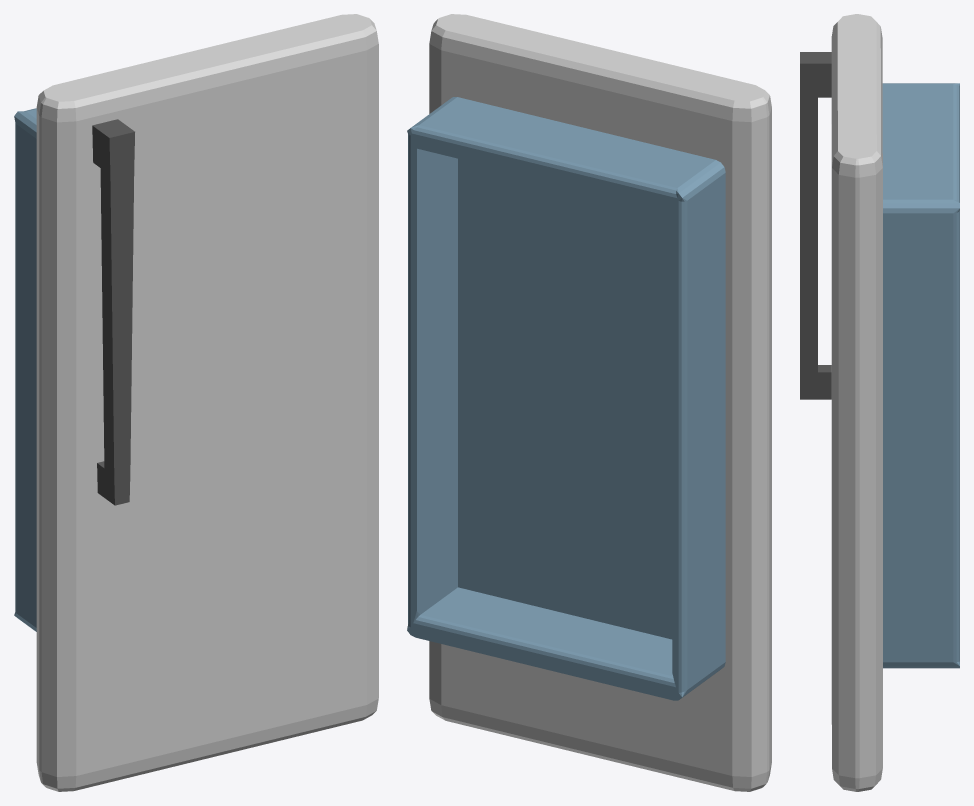
Rendered from bottomdoor.fbx.
3 views of the same model, side by side, from view 1: azimuth 30°, elevation 25°; view 2: azimuth 150°, elevation 25°; view 3: azimuth 270°, elevation 25° (orthographic). The views are drawn at different scales.
Visible parts, largest first — view 1: Cube.005; view 2: Cube.005; view 3: Cube.005.
Boxes of the visible parts, x1,y1,x2,y2 form: Cube.005: (14,14,378,791); Cube.005: (407,14,771,791); Cube.005: (800,14,959,791).
Bounding box in the file's own units: 200 × 394 × 90.18.
